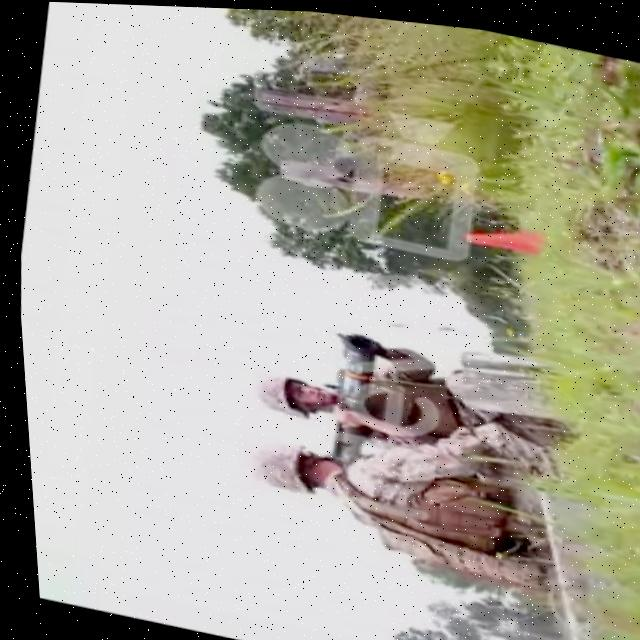rocket: (313, 326, 389, 454)
